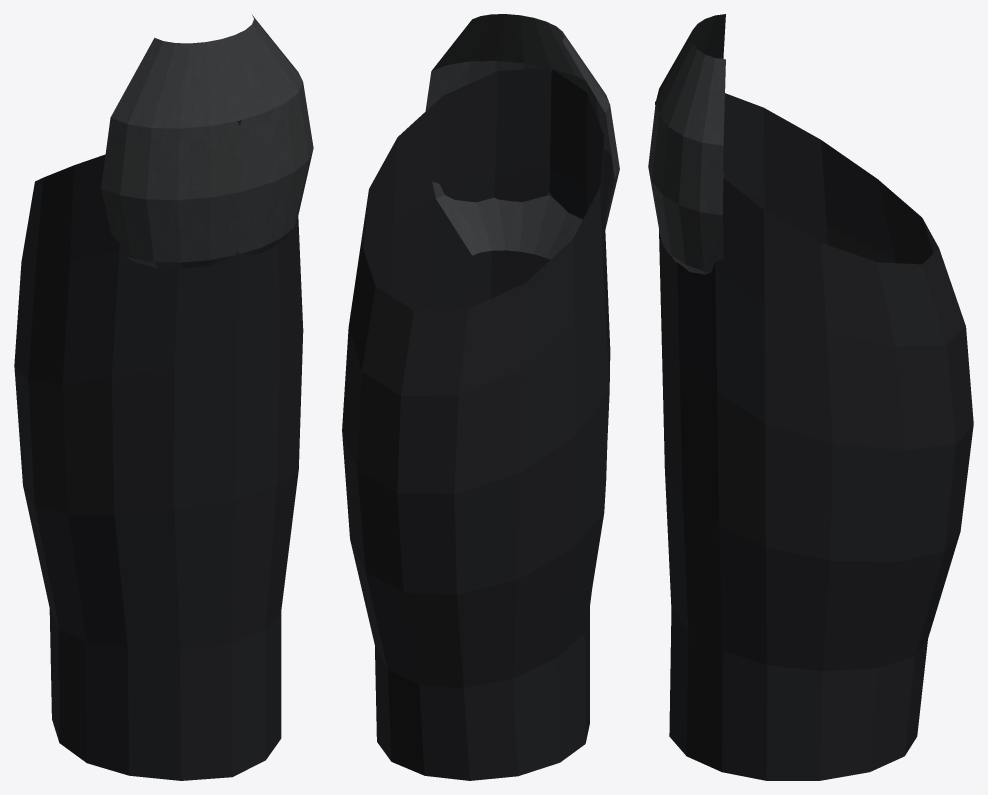
File: eq_present_3_leg.glb
The picture shows the model from 3 angles, left to right: view 1: azimuth 30°, elevation 25°; view 2: azimuth 150°, elevation 25°; view 3: azimuth 270°, elevation 25°; orthographic projection. The views are drawn at different scales.
Parts seen in each view (by area): view 1: eq_present_3_leg; view 2: eq_present_3_leg; view 3: eq_present_3_leg.
Part boxes in pixels (x1,y1,x2,y2): eq_present_3_leg: [14, 15, 313, 780]; eq_present_3_leg: [342, 14, 619, 780]; eq_present_3_leg: [648, 14, 973, 780].
Size of the model in its own units: 0.1598 by 0.4644 by 0.1958.
2 materials, 1 textured.
